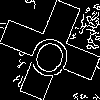O: (25, 25, 78, 82)
